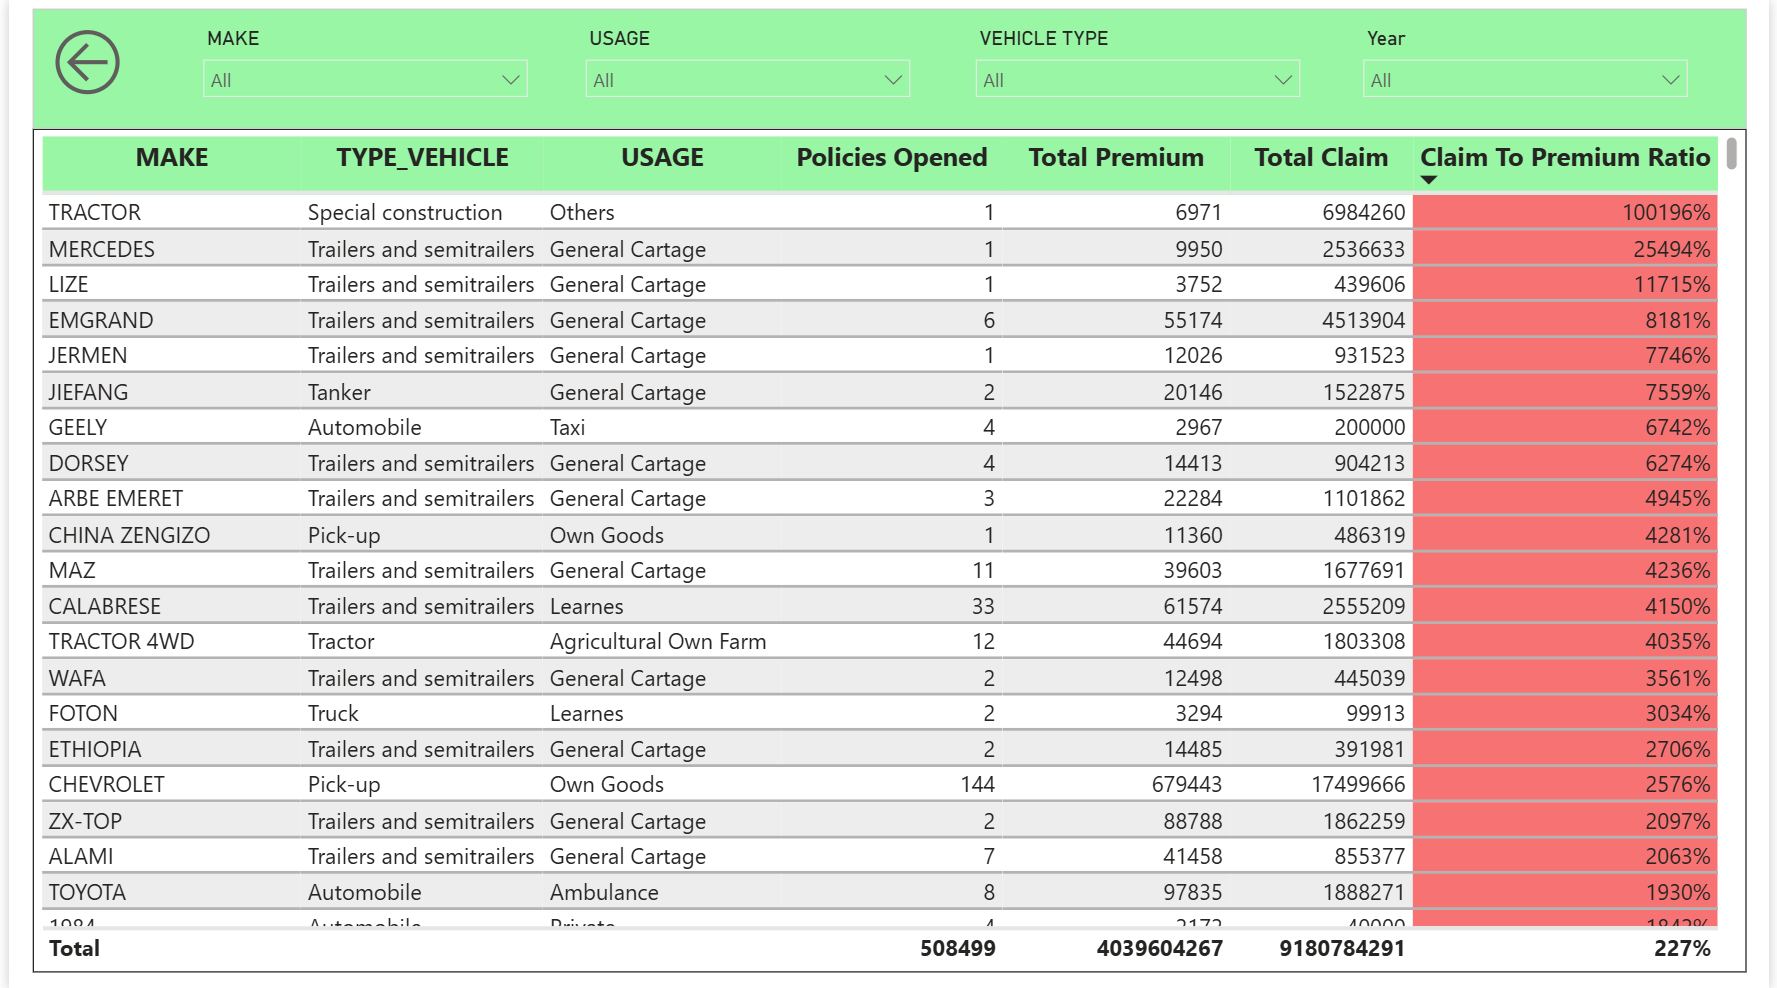

What the dashboard file says about the page in this screenshot:
{"tool":"powerbi","page":{"name":"Details","canvas":[1280,720],"ordinal":2},"visuals":[{"type":"tableEx","fields":{"Values":["Policies.MAKE","Policies.TYPE_VEHICLE","Policies.USAGE","Meaure atble.Policies Opened","Meaure atble.Total Premium","Meaure atble.Total Claim","Meaure atble.Loss Ratio"]},"box":[17.5,93.5,1246.6,613.3],"z":0},{"type":"shape","box":[17.5,6.2,1246.6,87.3],"z":500},{"type":"actionButton","box":[27.1,14.7,59.7,60.9],"z":1000},{"type":"slicer","fields":{"Values":["Policies.MAKE"]},"box":[130.9,15,256.8,71.1],"z":2000},{"type":"slicer","fields":{"Values":["Policies.USAGE"]},"box":[408.9,15,256.8,71.1],"z":3000},{"type":"slicer","fields":{"Values":["Policies.TYPE_VEHICLE"]},"box":[693.1,15,256.8,71.1],"z":4000},{"type":"slicer","fields":{"Values":["Calendar.Year"]},"box":[974.8,15,256.8,71.1],"z":6000}]}

Visuals, with their boxes in screenshot pixels (x1, y1, x2, y2), scaled from the page's 1280x720 canvas onto the 1777x988 screenshot:
tableEx - Policies.MAKE x Policies.TYPE_VEHICLE: left=24, top=128, right=1755, bottom=970
shape: left=24, top=9, right=1755, bottom=128
actionButton: left=38, top=20, right=121, bottom=104
slicer - Policies.MAKE: left=182, top=21, right=538, bottom=118
slicer - Policies.USAGE: left=568, top=21, right=924, bottom=118
slicer - Policies.TYPE_VEHICLE: left=962, top=21, right=1319, bottom=118
slicer - Calendar.Year: left=1353, top=21, right=1710, bottom=118
